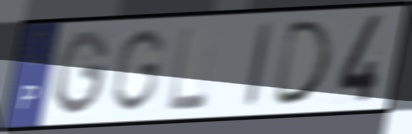4: (334, 12, 384, 107)
D: (269, 17, 335, 109)
G: (52, 28, 112, 119), (107, 26, 168, 115)
I: (242, 19, 275, 110)
L: (165, 23, 210, 114)
